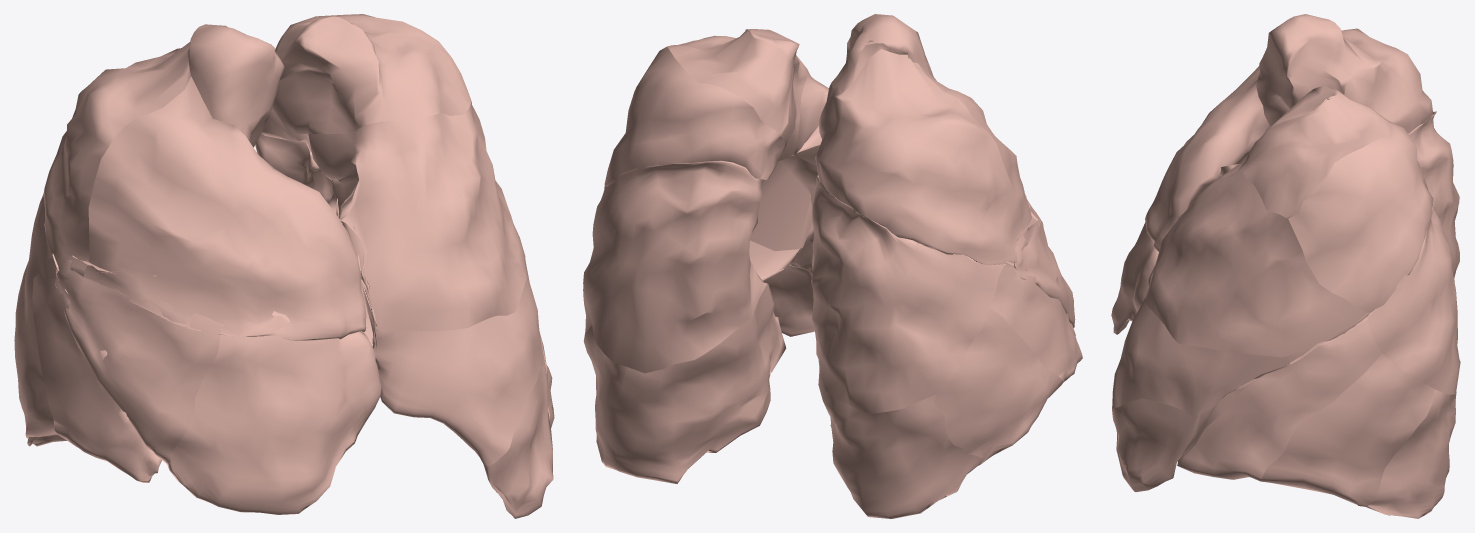
Rendered from respiratory.thorax.glb.
The picture shows the model from 3 angles, left to right: view 1: azimuth 30°, elevation 25°; view 2: azimuth 150°, elevation 25°; view 3: azimuth 270°, elevation 25°; orthographic projection. The views are drawn at different scales.
Parts seen in each view (by area): view 1: right_lung, left_lung, upper_lobe_of_left_lung, upper_lobe_of_right_lung, right_anterior_bronchopulmonary_segment, left_anterior_bronchopulmonary_segment, middle_lobe_of_right_lung, right_medial_bronchopulmonary_segment, left_superior_lingular_bronchopulmonary_segment, right_lateral_bronchopulmonary_segment, left_apical_bronchopulmonary_segment, right_posterior_bronchopulmonary_segment (+7 smaller); view 2: right_lung, left_lung, lower_lobe_of_left_lung, lower_lobe_of_right_lung, upper_lobe_of_left_lung, upper_lobe_of_right_lung, right_posterior_bronchopulmonary_segment, left_superior_bronchopulmonary_segment, right_superior_bronchopulmonary_segment, left_posterior_basal_bronchopulmonary_segment, left_posterior_bronchopulmonary_segment, right_lateral_basal_bronchopulmonary_segment (+9 smaller); view 3: left_lung, upper_lobe_of_left_lung, lower_lobe_of_left_lung, left_anterior_bronchopulmonary_segment, right_lung, upper_lobe_of_right_lung, left_posterior_bronchopulmonary_segment, left_lateral_basal_bronchopulmonary_segment, left_superior_lingular_bronchopulmonary_segment, left_anterior_basal_bronchopulmonary_segment, left_superior_bronchopulmonary_segment, left_posterior_basal_bronchopulmonary_segment (+9 smaller).
Part boxes in pixels (x1,y1,x2,y2): right_lung: (14,25,381,514); left_lung: (255,14,553,518); upper_lobe_of_left_lung: (261,14,553,517); upper_lobe_of_right_lung: (43,24,365,338); right_anterior_bronchopulmonary_segment: (83,76,366,340); left_anterior_bronchopulmonary_segment: (314,105,526,331); middle_lobe_of_right_lung: (55,255,381,514); right_medial_bronchopulmonary_segment: (167,311,378,514); left_superior_lingular_bronchopulmonary_segment: (368,263,542,466); right_lateral_bronchopulmonary_segment: (57,266,222,462); left_apical_bronchopulmonary_segment: (271,16,471,141); right_posterior_bronchopulmonary_segment: (45,42,190,276); right_lung: (811,16,1080,518); left_lung: (583,29,828,482); lower_lobe_of_left_lung: (583,160,786,483); lower_lobe_of_right_lung: (812,177,1082,518); upper_lobe_of_left_lung: (604,29,828,336); upper_lobe_of_right_lung: (815,14,1040,265); right_posterior_bronchopulmonary_segment: (815,49,1027,264); left_superior_bronchopulmonary_segment: (583,160,766,369); right_superior_bronchopulmonary_segment: (812,176,999,413); left_posterior_basal_bronchopulmonary_segment: (589,283,780,483); left_posterior_bronchopulmonary_segment: (606,47,785,186); right_lateral_basal_bronchopulmonary_segment: (934,319,1056,462); left_lung: (1112,90,1460,518); upper_lobe_of_left_lung: (1112,86,1431,491); lower_lobe_of_left_lung: (1177,205,1459,518); left_anterior_bronchopulmonary_segment: (1145,161,1368,357); right_lung: (1111,16,1459,332); upper_lobe_of_right_lung: (1146,15,1430,249); left_posterior_bronchopulmonary_segment: (1294,121,1433,312); left_lateral_basal_bronchopulmonary_segment: (1261,362,1434,506); left_superior_lingular_bronchopulmonary_segment: (1113,265,1369,413); left_anterior_basal_bronchopulmonary_segment: (1177,320,1382,479); left_superior_bronchopulmonary_segment: (1368,213,1457,394); left_posterior_basal_bronchopulmonary_segment: (1366,389,1453,516).
Bounding box in the file's own units: 0.2536 × 0.2449 × 0.1911.
